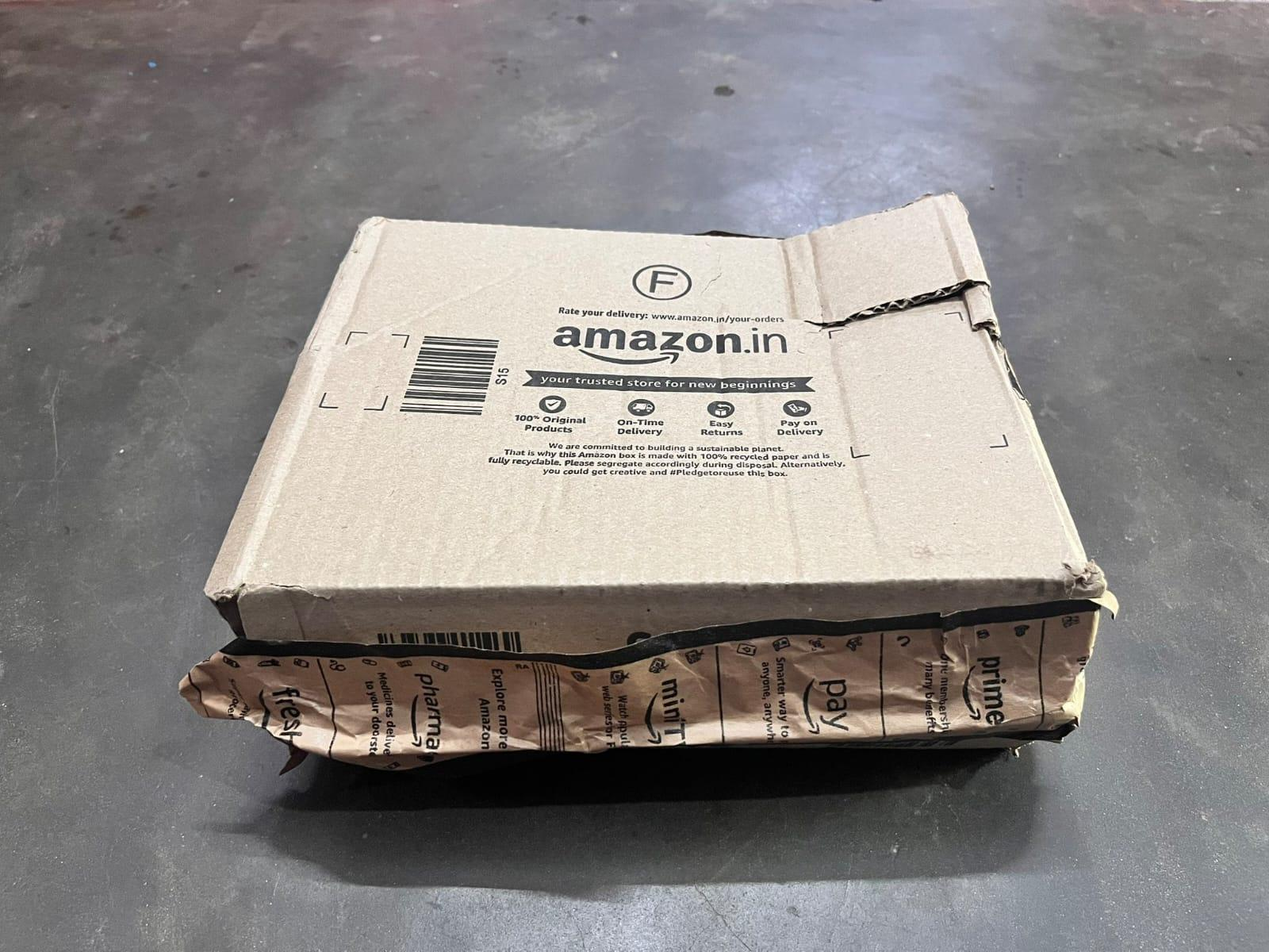undamaged: (150, 165, 1134, 822), (796, 267, 1021, 398)
